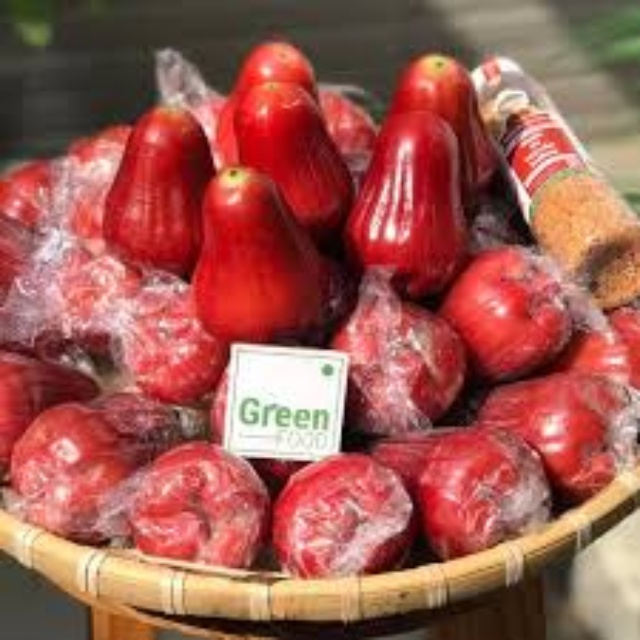xoai: (188, 162, 323, 340), (104, 101, 215, 277), (353, 114, 460, 283), (232, 83, 349, 227)
